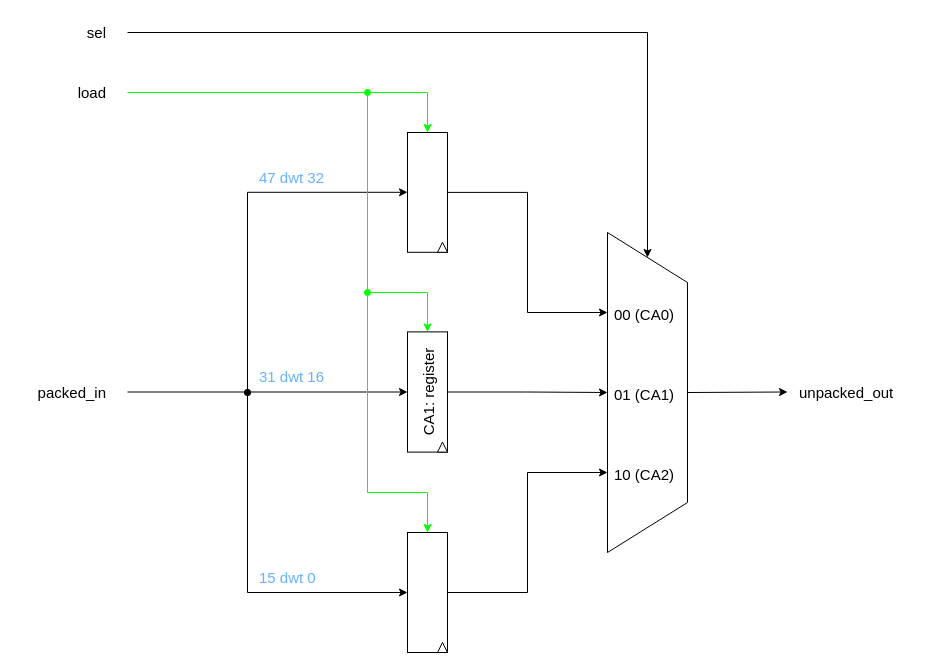
This 934x670 diagram has some shape labels left out. Here are the shapes that lost their labels. From the top down, the centre of each, then its label:
At point 427,192: "CA0: register".
At point 427,592: "CA2: register".
